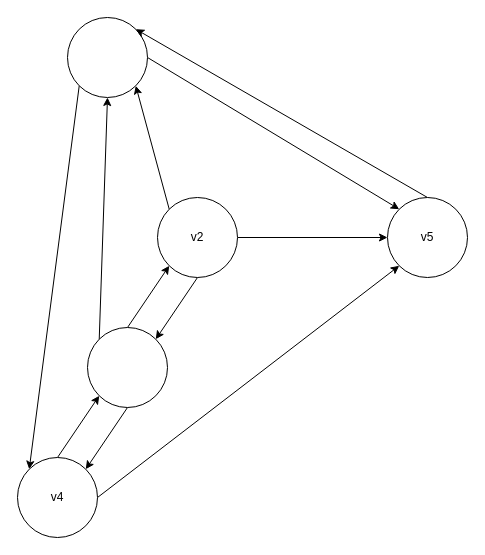
Some shapes in this 485 by 555 pixel diagram are drawn without their labels. The centre of each missing label's shape, as x and y in pixels:
v1: the point at 127,367
v3: the point at 107,57
